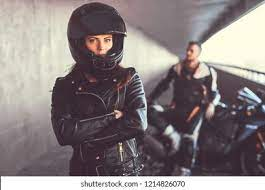helmets: (64, 2, 133, 80)
